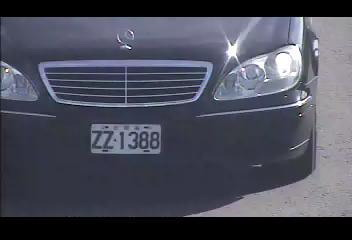plate: (89, 122, 162, 155)
